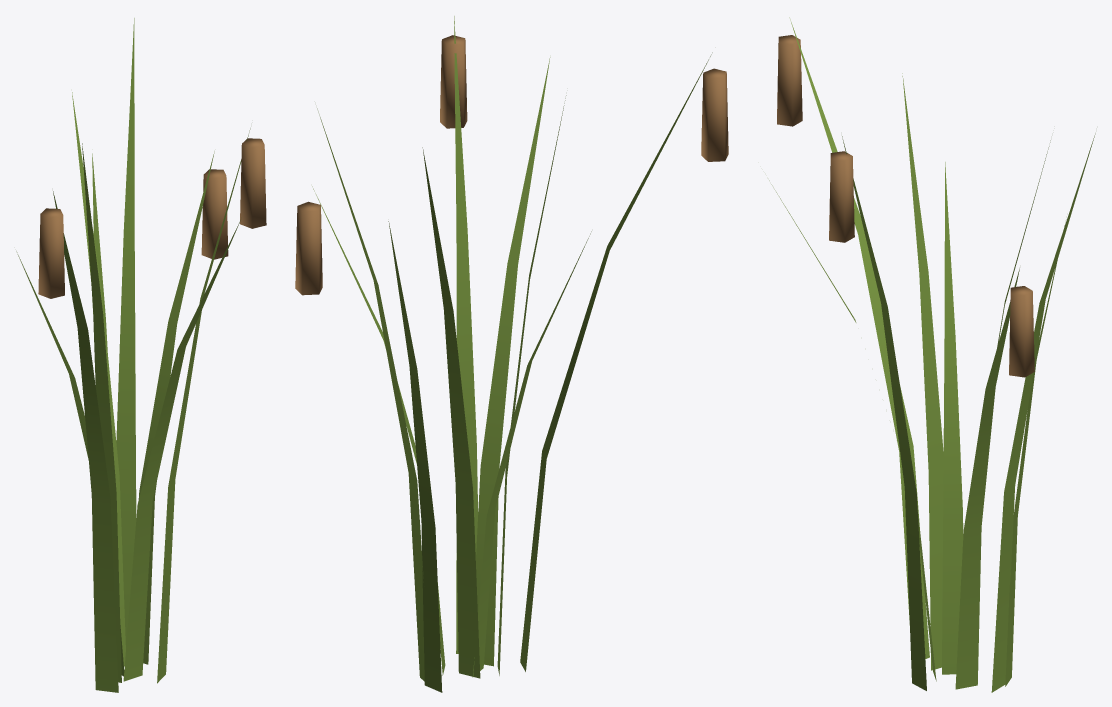
File: reeds.glb
3 views of the same model, side by side, from view 1: azimuth 30°, elevation 25°; view 2: azimuth 150°, elevation 25°; view 3: azimuth 270°, elevation 25° (orthographic). The views are drawn at different scales.
Parts seen in each view (by area): view 1: reeds; view 2: reeds; view 3: reeds.
Boxes of the visible parts, box(x1,y1,x2,y2) form: reeds: box(16, 18, 266, 692); reeds: box(295, 16, 728, 692); reeds: box(769, 17, 1095, 692).
Bounding box in the file's own units: 0.8639 × 1.6 × 0.8371.
